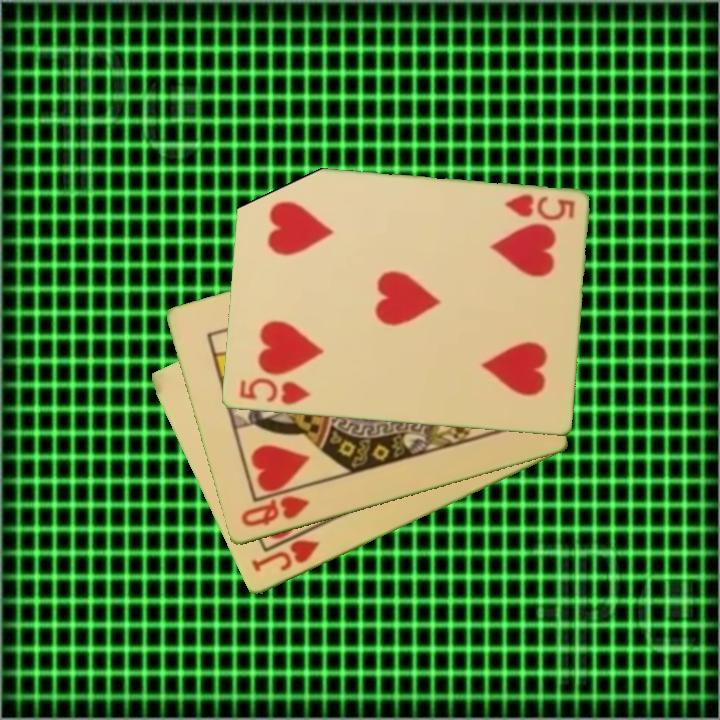5h: (235, 374, 313, 408), (501, 191, 577, 224)
Jh: (247, 536, 323, 576)
Qh: (237, 492, 312, 530)
